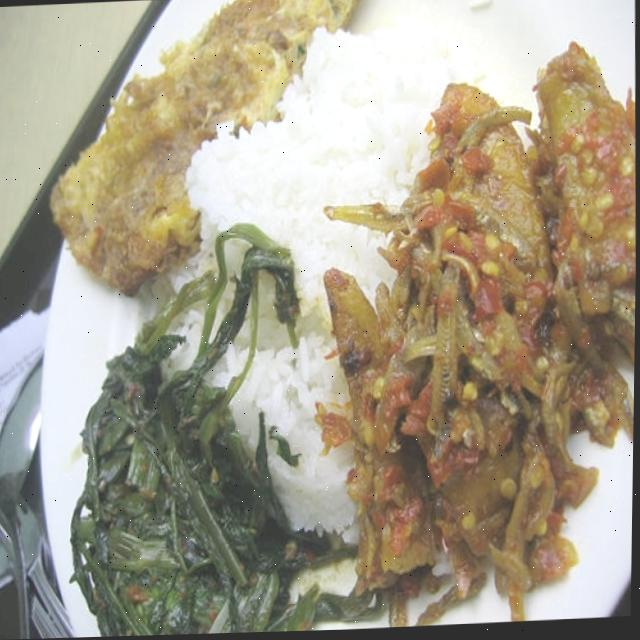米饭主食: (16, 0, 622, 631)
